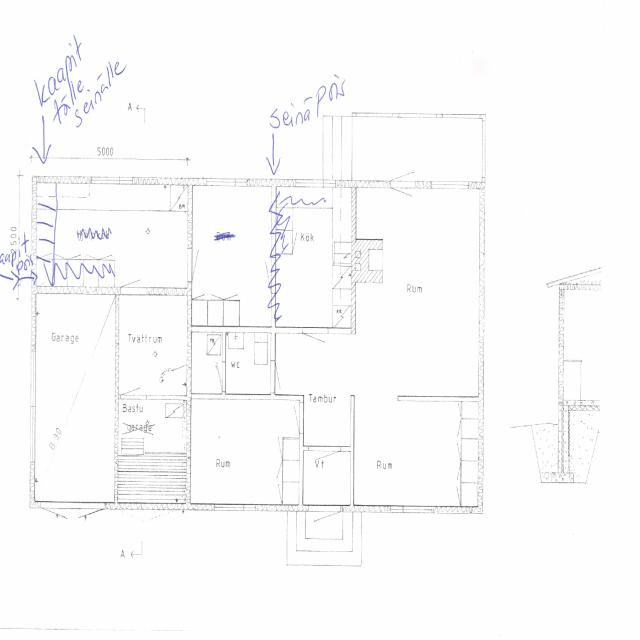door: (73, 508, 105, 560), (41, 508, 73, 560), (309, 508, 340, 559), (309, 446, 339, 494), (120, 250, 147, 294), (391, 175, 416, 218), (120, 358, 146, 399), (391, 141, 416, 182), (302, 327, 327, 368), (188, 248, 217, 282), (277, 402, 303, 433), (270, 361, 296, 392), (202, 362, 226, 390)
